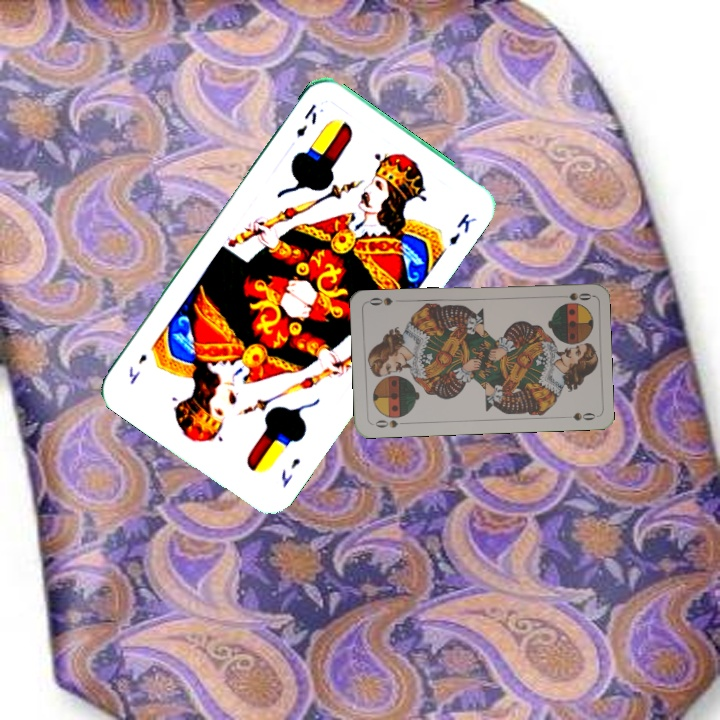EK: (292, 99, 320, 140), (277, 454, 303, 490)
SO: (553, 288, 593, 303), (369, 416, 409, 430)
